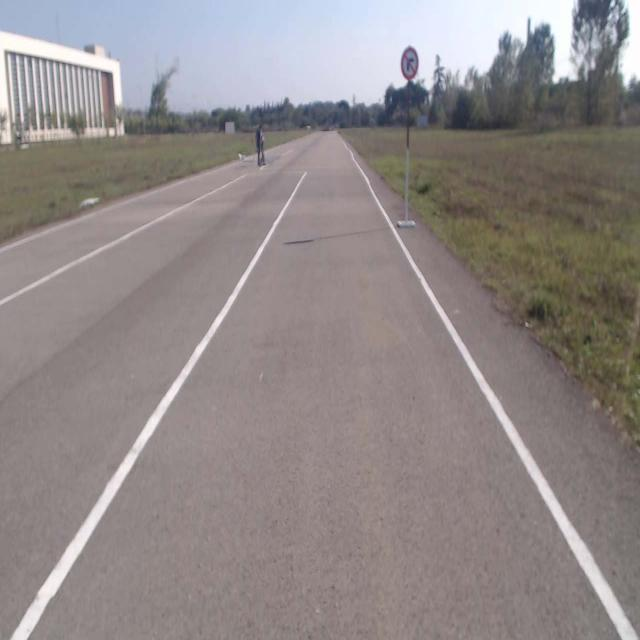sagadonulmez: (401, 46, 419, 79)
